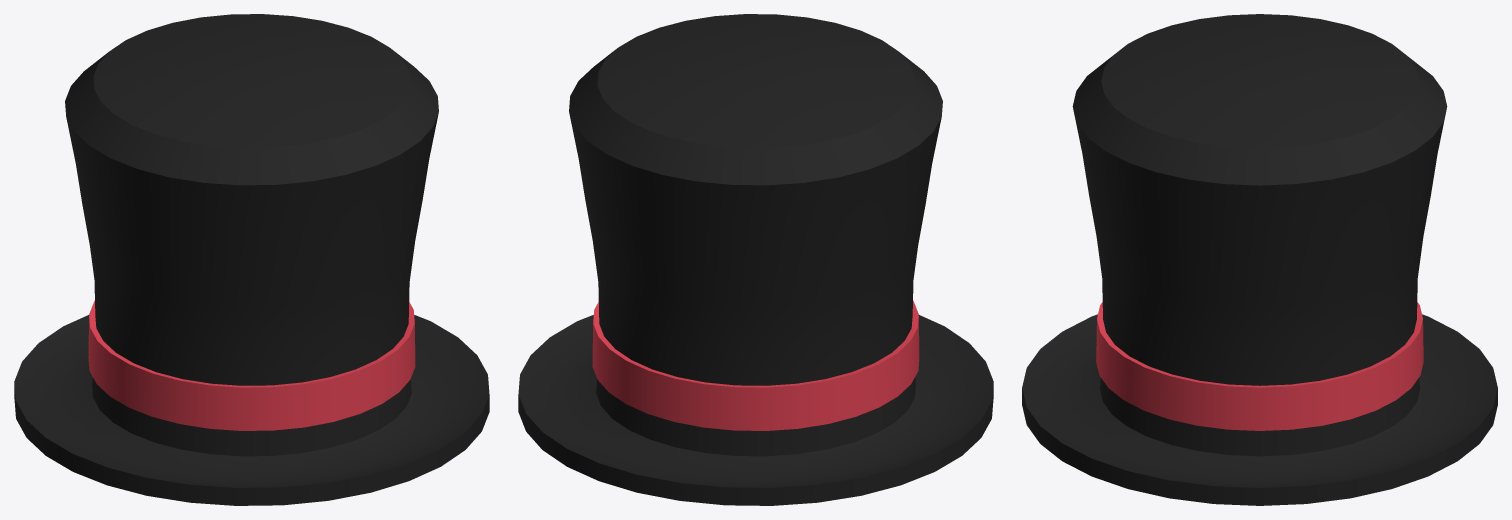
Rendered from SM_Hat.fbx.
3 renders of one model, left to right at view 1: azimuth 30°, elevation 25°; view 2: azimuth 150°, elevation 25°; view 3: azimuth 270°, elevation 25°, orthographic.
Visible parts, largest first — view 1: Hat; view 2: Hat; view 3: Hat.
Part boxes in pixels (bbox=[...]): Hat: bbox=[14, 14, 489, 505]; Hat: bbox=[518, 14, 993, 505]; Hat: bbox=[1022, 14, 1497, 505].
Bounding box in the file's own units: 354 × 288 × 354.
